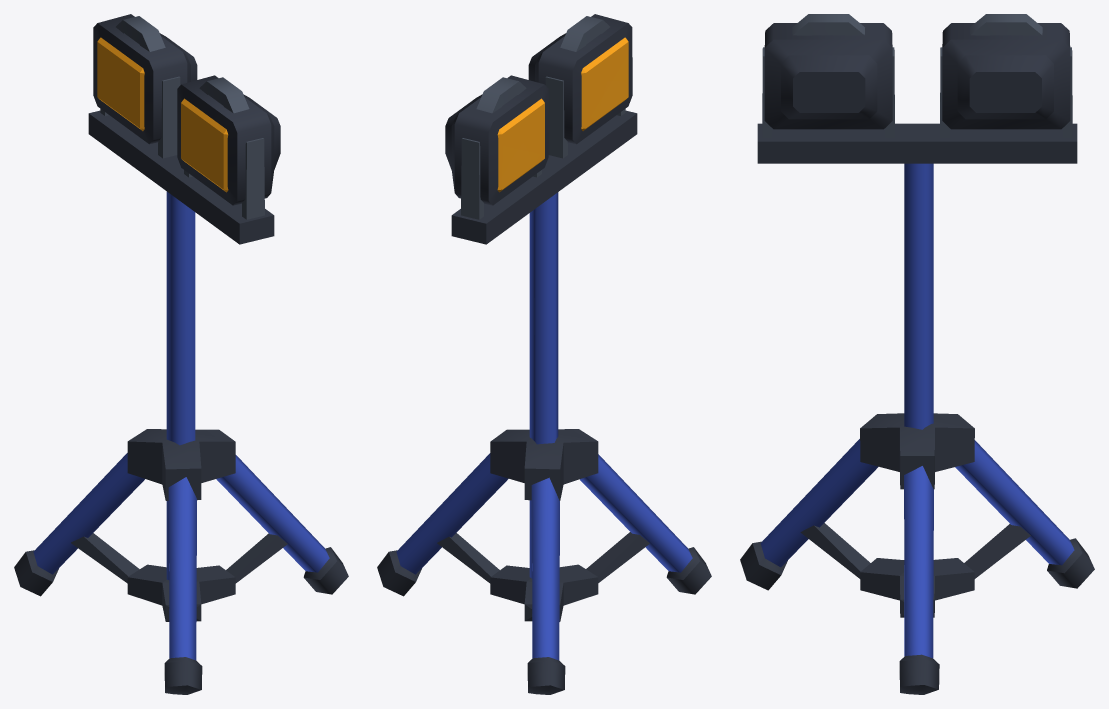
The model's file is LightsC_1_C.glb.
3 views of the same model, side by side, from view 1: azimuth 30°, elevation 25°; view 2: azimuth 150°, elevation 25°; view 3: azimuth 270°, elevation 25° (orthographic). The views are drawn at different scales.
Parts seen in each view (by area): view 1: LightsC_1_C; view 2: LightsC_1_C; view 3: LightsC_1_C.
Part boxes in pixels (x1=…): LightsC_1_C: x1=14, y1=14, x2=348, y2=694; LightsC_1_C: x1=377, y1=14, x2=711, y2=694; LightsC_1_C: x1=740, y1=14, x2=1094, y2=694.
Bounding box in the file's own units: 0.7514 × 1.6 × 0.8505.
Materials: 3 (3 with a texture image).
